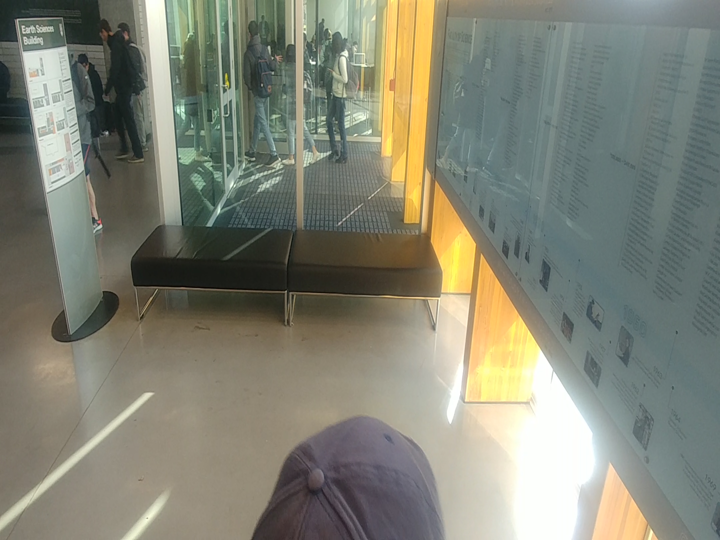face: (90, 15, 122, 50), (323, 28, 352, 62), (239, 15, 264, 49), (283, 38, 297, 68)
human: (92, 15, 154, 168), (236, 16, 280, 178), (317, 24, 362, 169), (281, 31, 298, 176)
